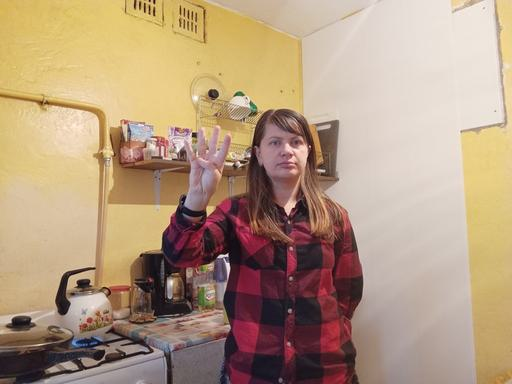four: (183, 124, 232, 194)
